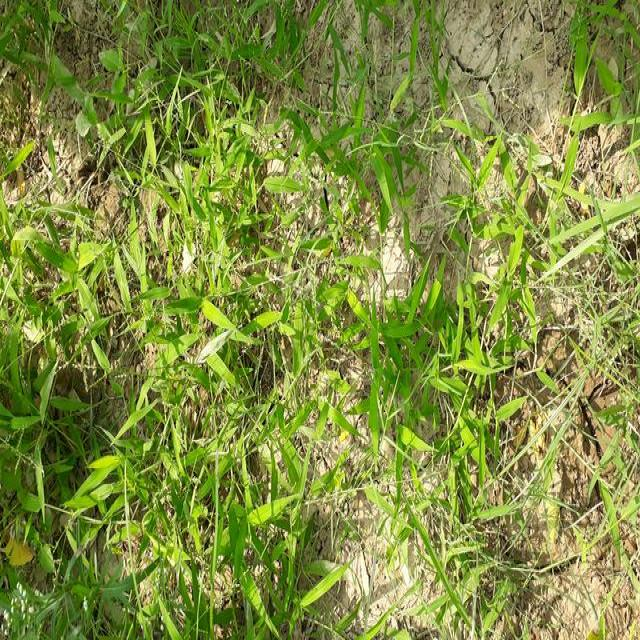weed: (5, 275, 289, 640), (5, 12, 324, 230), (329, 192, 480, 500)
